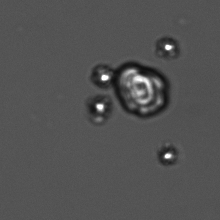Dead Cell: (114, 60, 172, 118)
Living Cell: (155, 35, 183, 59), (89, 64, 114, 87), (158, 142, 180, 168), (87, 94, 113, 115)
